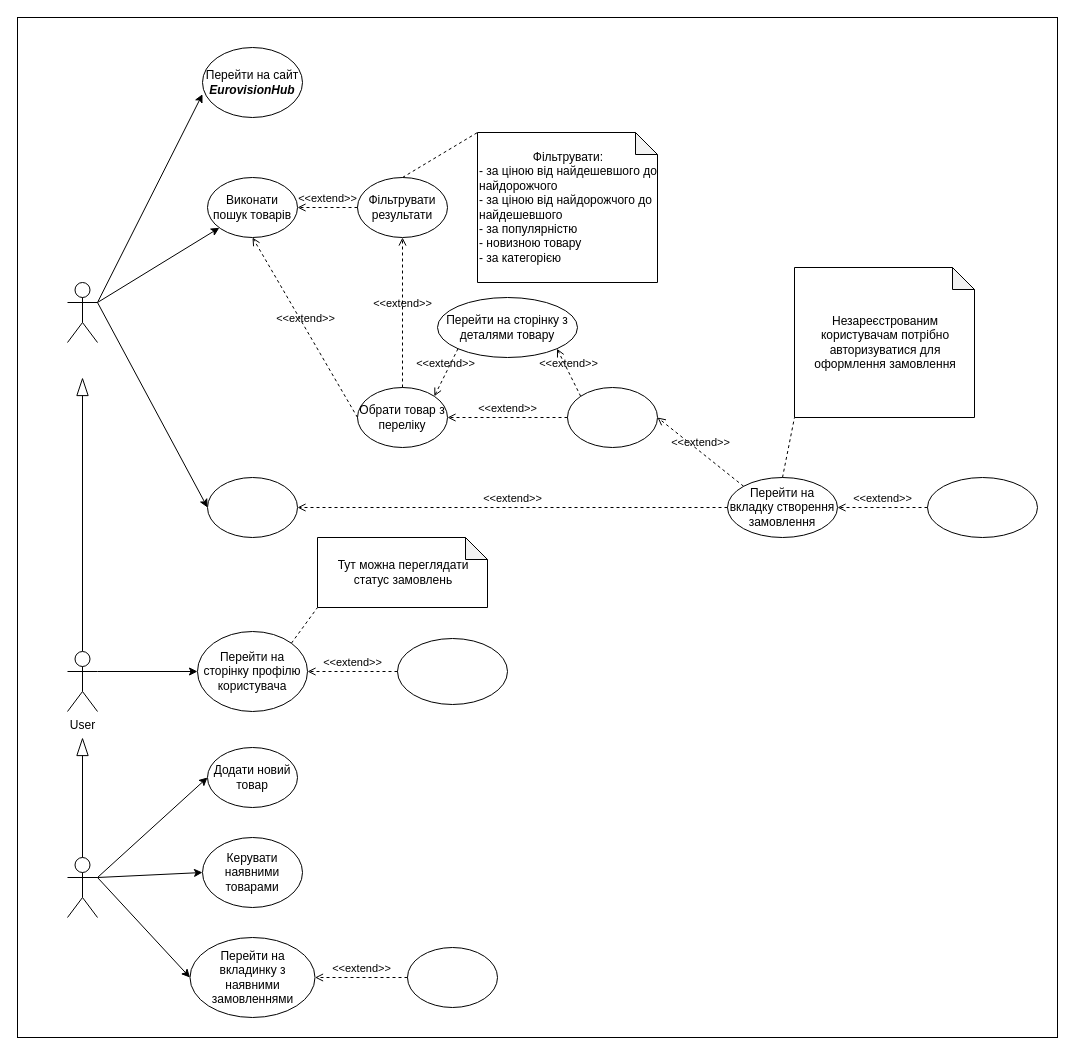
This 1075x1055 diagram has some shape labels left out. Here are the shapes that lost their labels. From the top down, the centre of each, then its label:
At (x=82, y=312): "Unauthorized User".
At (x=612, y=417): "Додати товар в кошик".
At (x=252, y=507): "Перейти до сторінки кошика".
At (x=982, y=507): "Підтвердити замовлення".
At (x=452, y=671): "Перейти на сторінку редагування профілю".
At (x=82, y=887): "Admin".
At (x=452, y=977): "Змінити статус замовлення".
